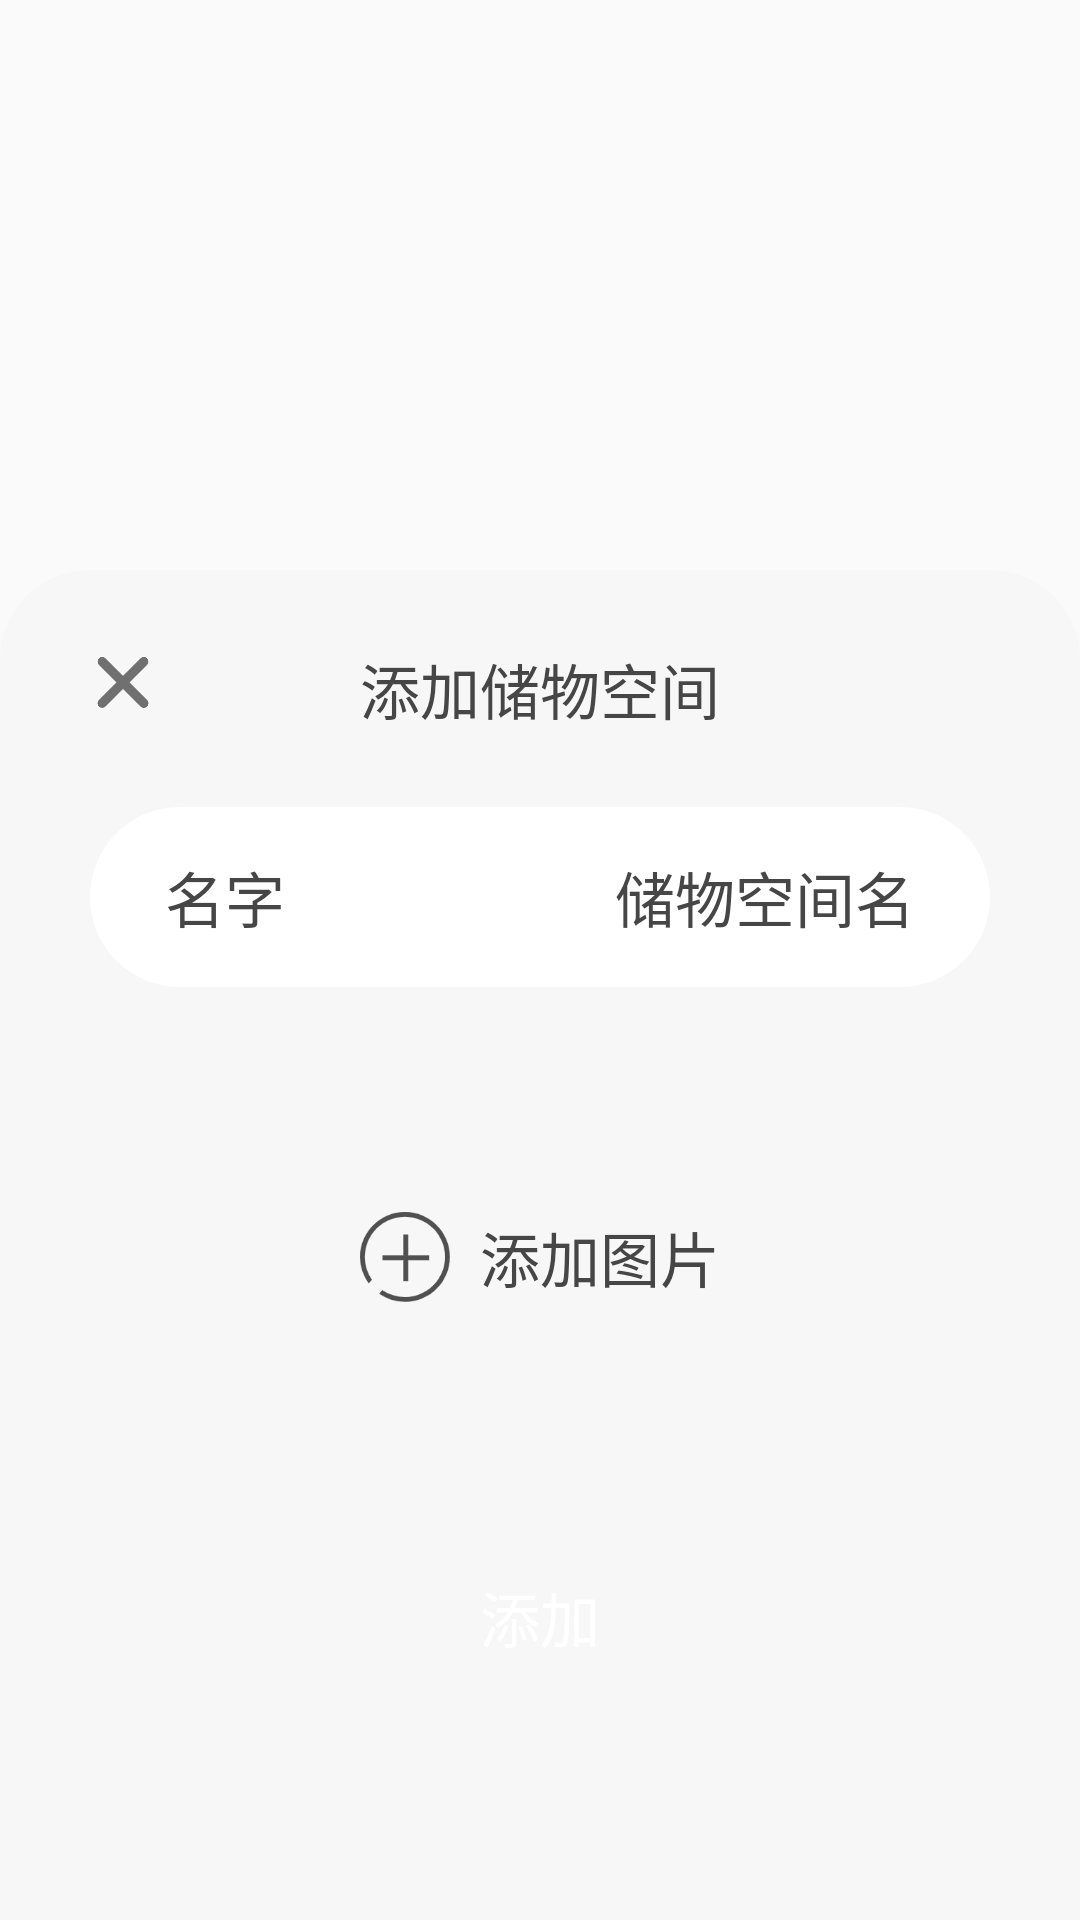

Named icons in this screenshot (1080x1920) and their bounding boxes, (x1, y1, x2, y2):
add: (360, 1212, 450, 1302)
close: (97, 657, 149, 708)
